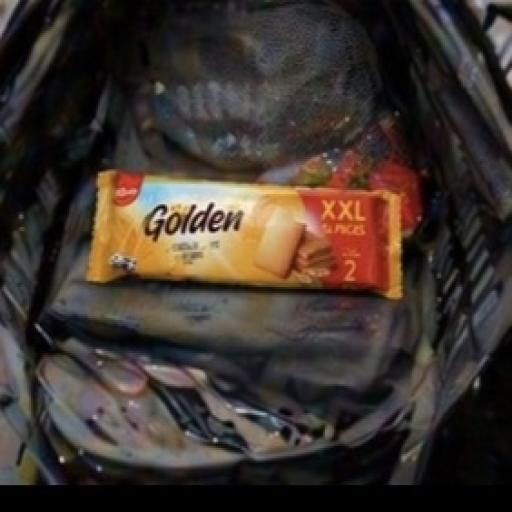golden: (54, 100, 454, 341)
